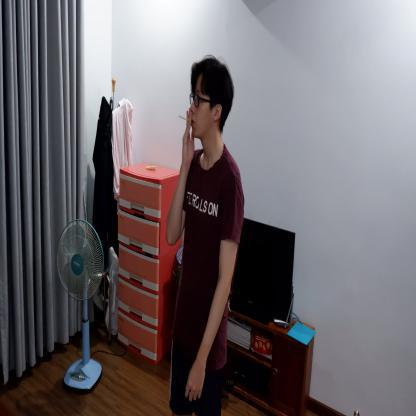cigarette: (178, 113, 190, 122)
person: (163, 54, 247, 415)
